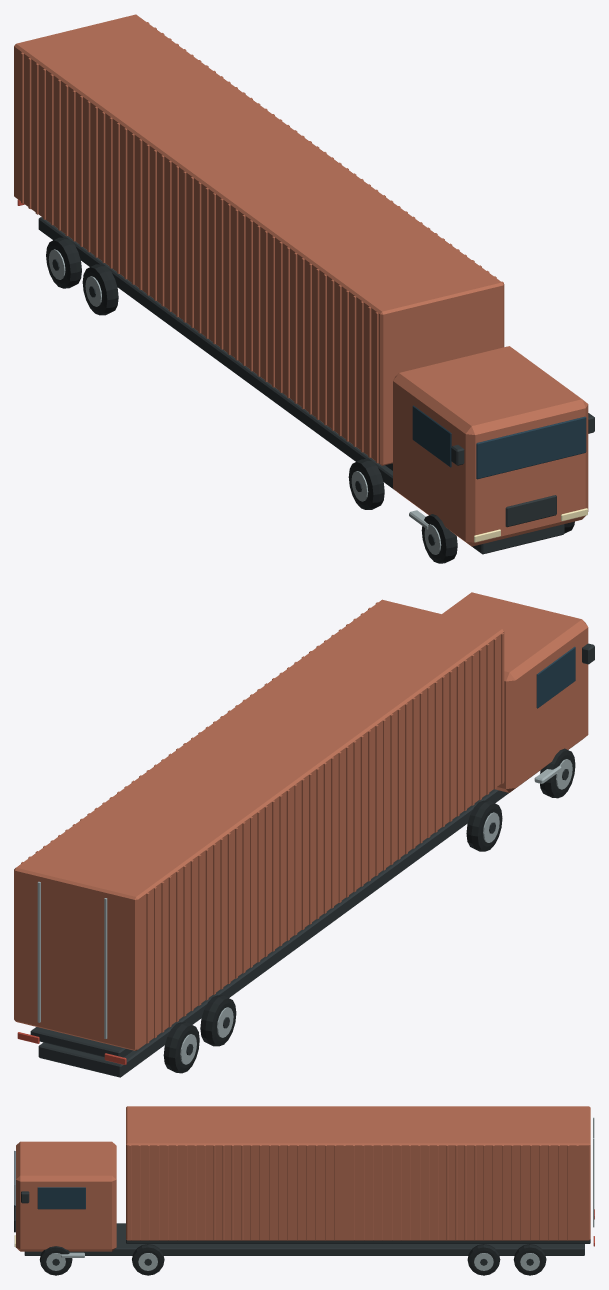
Rendered from trailer-container-05.glb.
3 views of the same model, one above another, from view 1: azimuth 30°, elevation 25°; view 2: azimuth 150°, elevation 25°; view 3: azimuth 270°, elevation 25° (orthographic). The views are drawn at different scales.
Parts seen in each view (by area): view 1: CargoBox, Cab, Chassis, Glass_Windscreen, CabWindow, Tyre_2R, Tyre_3R, Tyre_RR, Grille, Tyre_FR; view 2: CargoBox, Cab, Chassis, CabWindow, TrailerFrame, Tyre_2R, Tyre_RR, Tyre_3R, Tyre_FR; view 3: CargoBox, Cab, Chassis, TrailerFrame, CabWindow.001, Tyre_2L, Tyre_3L, Tyre_RL, Tyre_FL, ContainerRib.001, ContainerRib.003, ContainerRib.007 (+37 smaller).
Boxes of the visible parts, x1=… form: CargoBox: x1=14, y1=14, x2=504, y2=465; Cab: x1=393, y1=346, x2=588, y2=546; Chassis: x1=38, y1=217, x2=564, y2=554; Glass_Windscreen: x1=476, y1=416, x2=586, y2=479; CabWindow: x1=412, y1=405, x2=451, y2=467; Tyre_2R: x1=82, y1=264, x2=118, y2=315; Tyre_3R: x1=46, y1=237, x2=81, y2=288; Tyre_RR: x1=348, y1=459, x2=384, y2=509; Grille: x1=505, y1=495, x2=556, y2=527; Tyre_FR: x1=421, y1=514, x2=457, y2=563; CargoBox: x1=14, y1=599, x2=504, y2=1050; Cab: x1=442, y1=592, x2=588, y2=792; Chassis: x1=38, y1=789, x2=508, y2=1077; CabWindow: x1=536, y1=646, x2=575, y2=708; TrailerFrame: x1=30, y1=1027, x2=132, y2=1057; Tyre_2R: x1=200, y1=995, x2=236, y2=1046; Tyre_RR: x1=466, y1=800, x2=502, y2=851; Tyre_3R: x1=163, y1=1022, x2=199, y2=1073; Tyre_FR: x1=540, y1=748, x2=575, y2=798; CargoBox: x1=126, y1=1106, x2=590, y2=1240; Cab: x1=16, y1=1141, x2=116, y2=1251; Chassis: x1=24, y1=1223, x2=584, y2=1255; TrailerFrame: x1=126, y1=1239, x2=590, y2=1243; CabWindow.001: x1=37, y1=1187, x2=85, y2=1209; Tyre_2L: x1=467, y1=1244, x2=500, y2=1275; Tyre_3L: x1=513, y1=1244, x2=546, y2=1275; Tyre_RL: x1=132, y1=1244, x2=164, y2=1275; Tyre_FL: x1=39, y1=1246, x2=72, y2=1275; ContainerRib.001: x1=129, y1=1145, x2=131, y2=1240; ContainerRib.003: x1=138, y1=1145, x2=140, y2=1240; ContainerRib.007: x1=157, y1=1145, x2=159, y2=1240.
Bounding box in the file's own units: 2.71 × 3.9 × 15.59.
